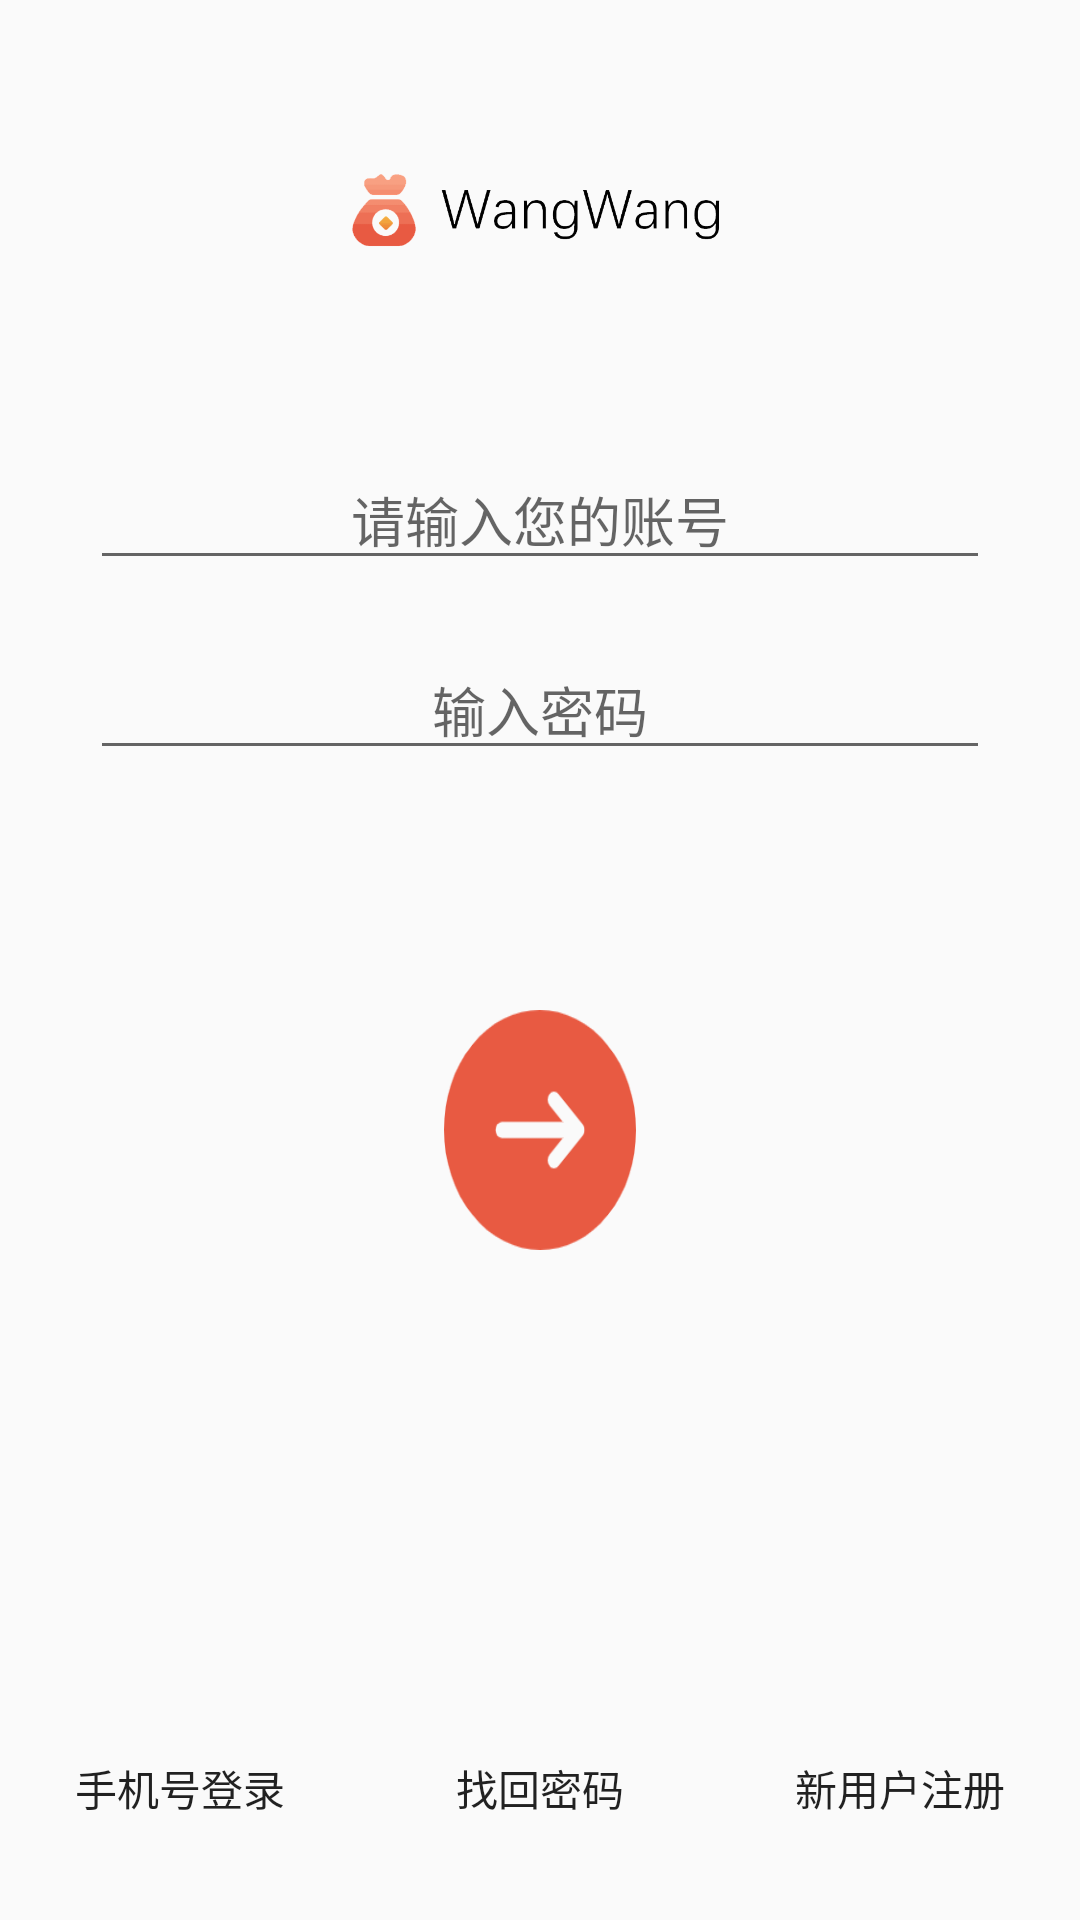

Icons on this 1080×1920 Android screen, each with its box as (x1, y1, x2, y2):
nextbutton: (444, 1010, 636, 1250)
